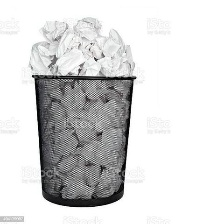book: (22, 11, 141, 202)
